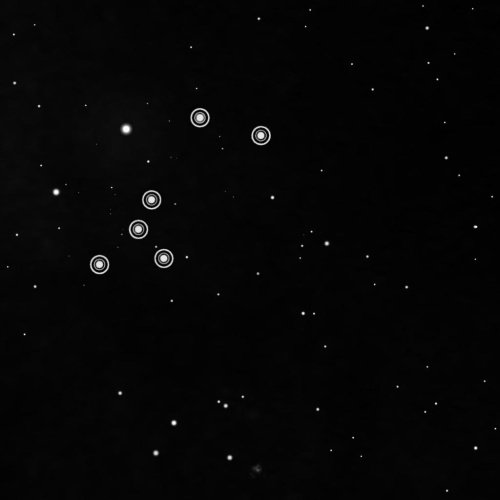canis_major: (84, 104, 275, 280)
